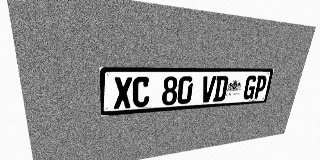0: (177, 76, 194, 104)
8: (161, 76, 179, 106)
C: (132, 77, 150, 108)
D: (213, 76, 229, 102)
G: (242, 75, 258, 100)
P: (253, 75, 268, 99)
V: (200, 76, 216, 103)
X: (114, 77, 132, 109)
